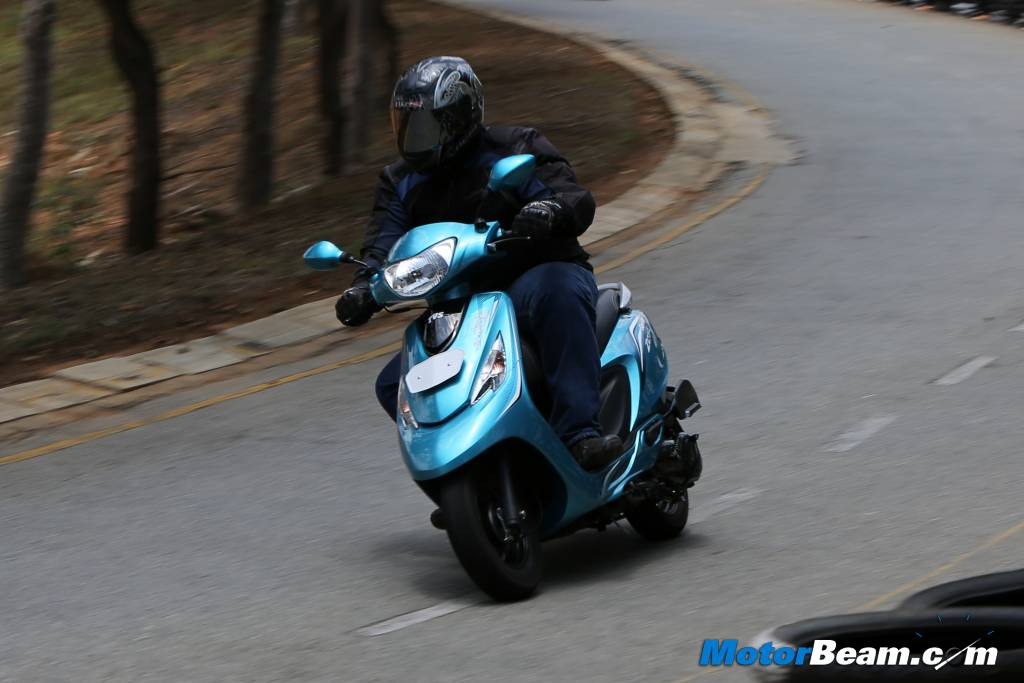helmet: (385, 57, 486, 164)
